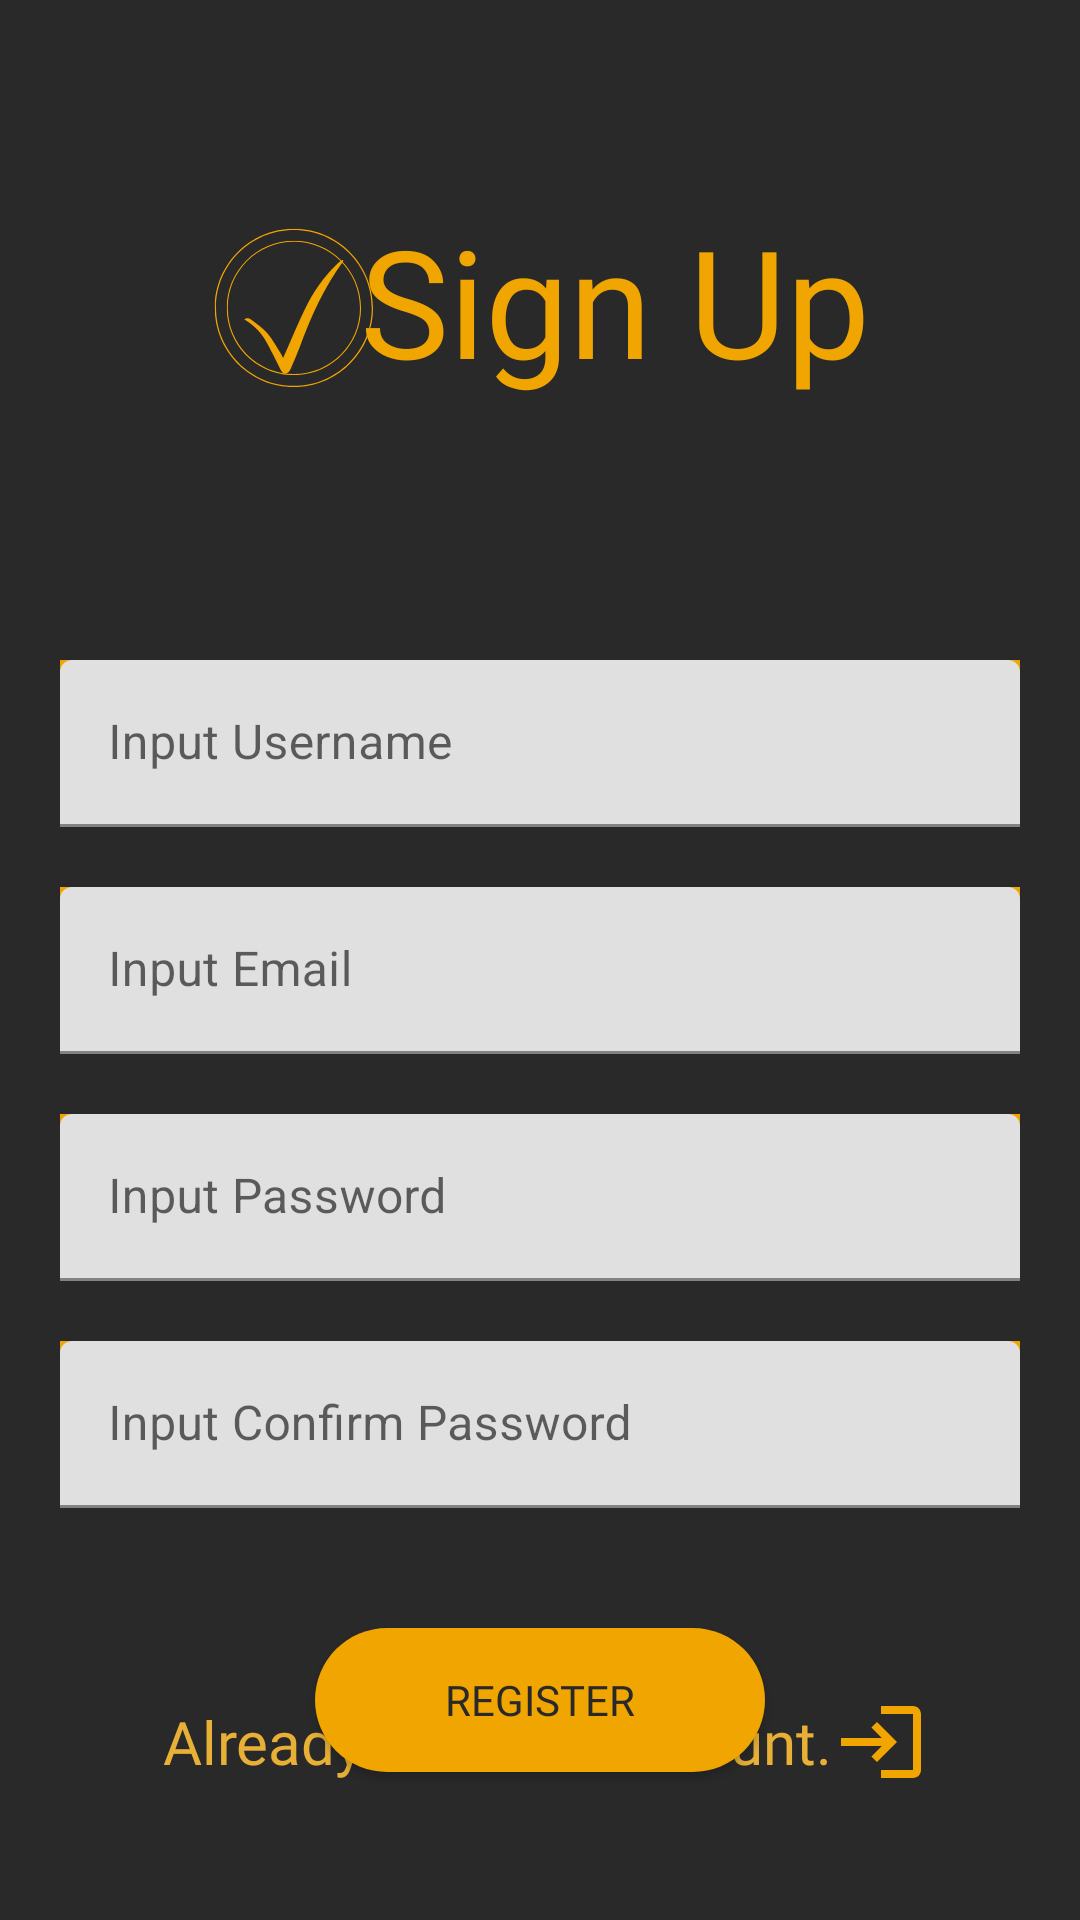

Icon bounding boxes for this 1080 x 1920 phone screenshot, format (x1, y1, x2, y2):
login: (841, 1706, 921, 1778)
